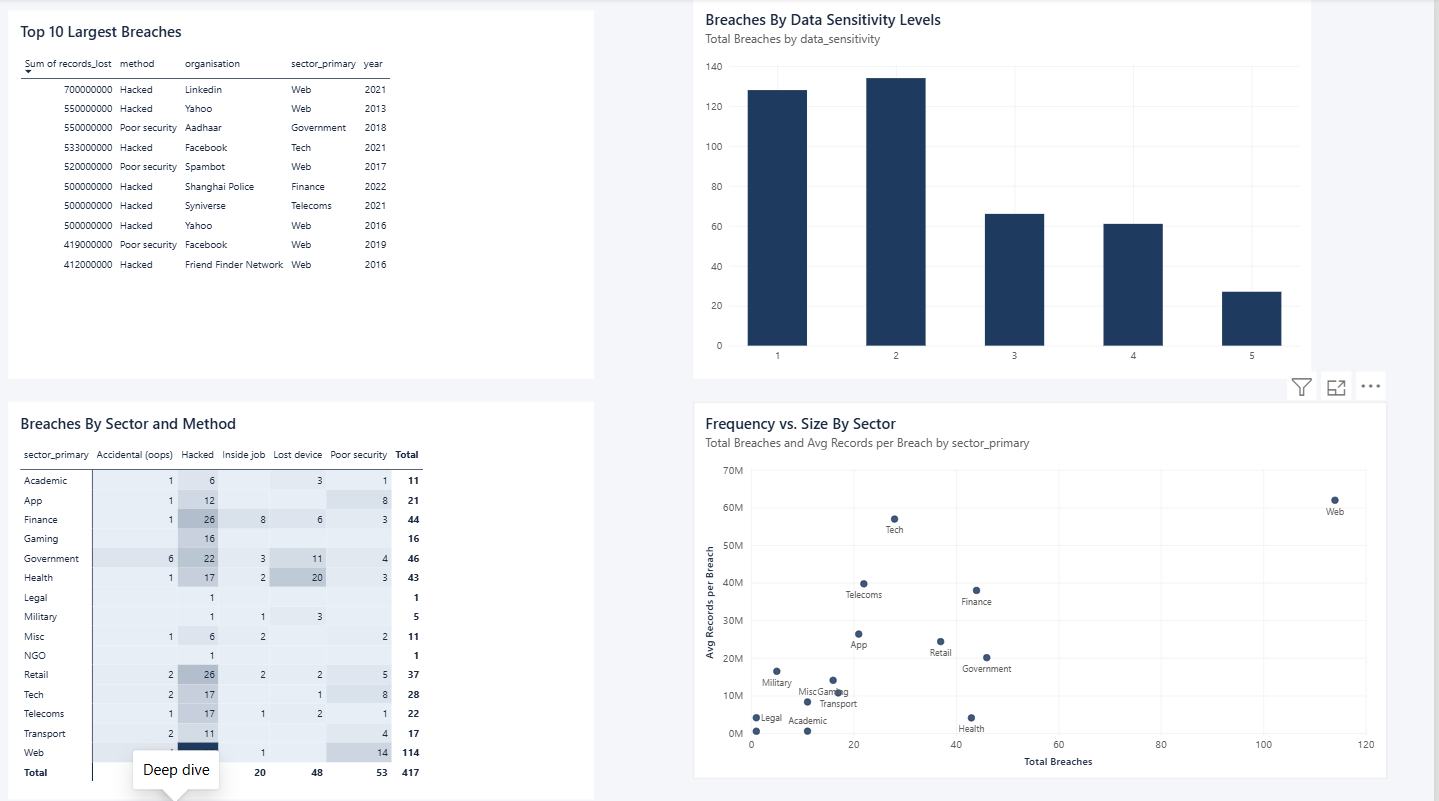

The page's visual inventory and layout, read from the dashboard file:
{"tool":"powerbi","page":{"name":"Deep dive","canvas":[1920,1080],"ordinal":1},"visuals":[{"type":"tableEx","title":"Top 10 Largest Breaches","fields":{"Values":["Sum(breaches.records_lost)","breaches.method","breaches.organisation","breaches.sector_primary","breaches.year"]},"box":[14.4,16.5,782.2,491.9],"z":0},{"type":"clusteredColumnChart","title":"Breaches By Data Sensitivity Levels","fields":{"Category":["breaches.data_sensitivity"],"Y":["breaches.Total Breaches"]},"box":[930.4,0,825.4,508.4],"z":1},{"type":"pivotTable","title":"Breaches By Sector and Method","fields":{"Columns":["breaches.method"],"Rows":["breaches.sector_primary"],"Values":["breaches.Total Breaches"]},"box":[14.4,539.3,782.2,531],"z":2},{"type":"scatterChart","title":"Frequency vs. Size By Sector","fields":{"Category":["breaches.sector_primary"],"X":["breaches.Total Breaches"],"Y":["breaches.Avg Records per Breach"]},"box":[930.4,539.3,926.2,504.3],"z":3}]}

Visuals, with their boxes in screenshot pixels (x1, y1, x2, y2), scaled from the page's 1920x1080 canvas onto the 1439x801 screenshot:
"Top 10 Largest Breaches" tableEx: box(11, 12, 597, 377)
"Breaches By Data Sensitivity Levels" clusteredColumnChart: box(697, 0, 1316, 377)
"Breaches By Sector and Method" pivotTable: box(11, 400, 597, 794)
"Frequency vs. Size By Sector" scatterChart: box(697, 400, 1391, 774)
